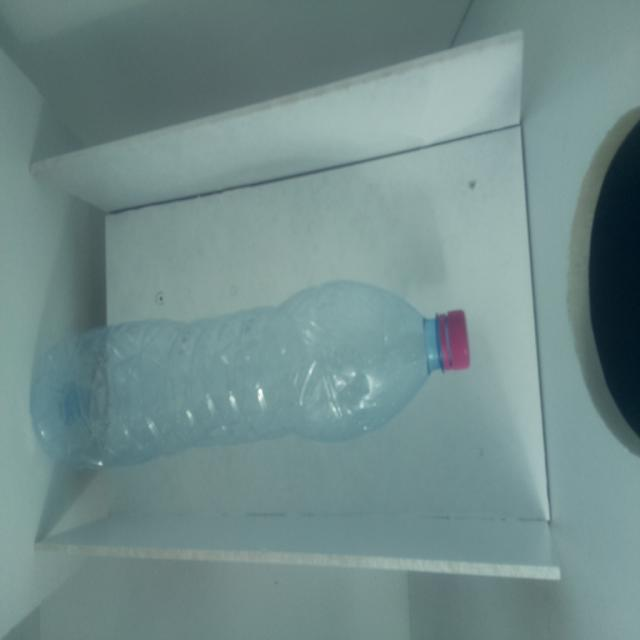Anorganik: (22, 291, 470, 473)
